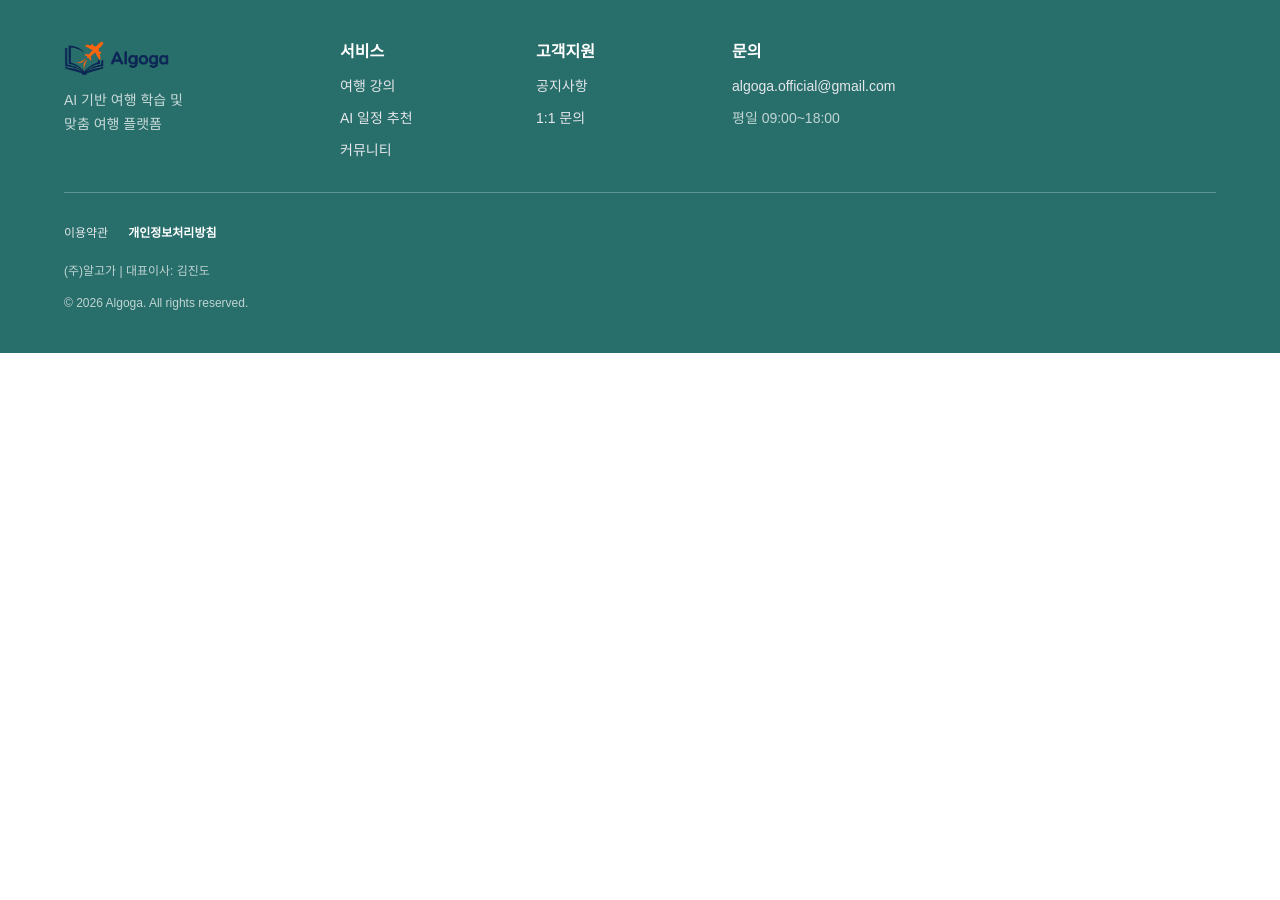
Footer › 이용약관과 개인정보처리방침을 모달로 보여준다
The image size is (1280, 900).
Click the button "이용약관": (86, 233) [64,225,108,241]
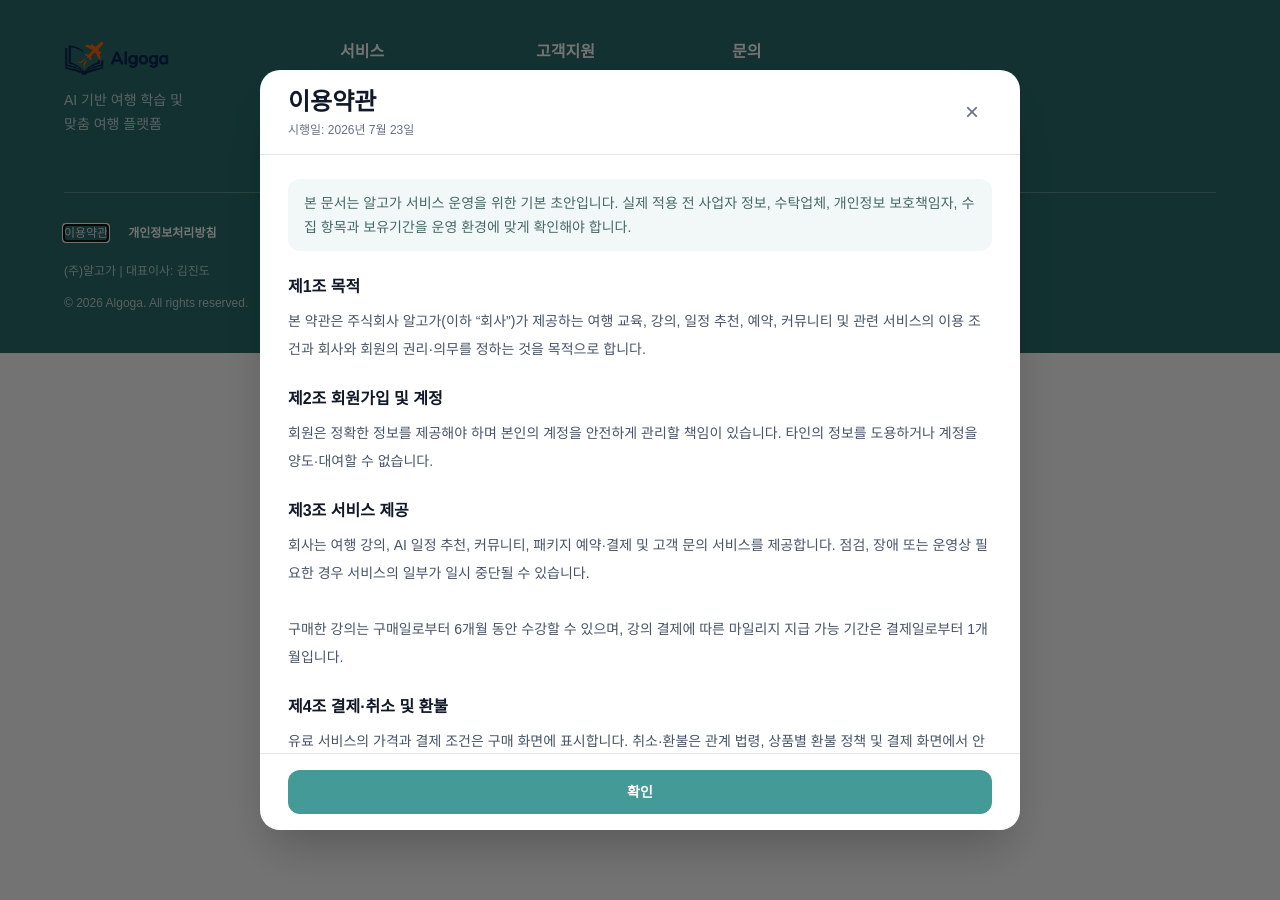
Expected: the dialog "이용약관" is shown
Expected: the heading "제1조 목적" is shown, [288,278,360,295]
Click the button named "이용약관 닫기": (972, 112) [952,92,992,132]
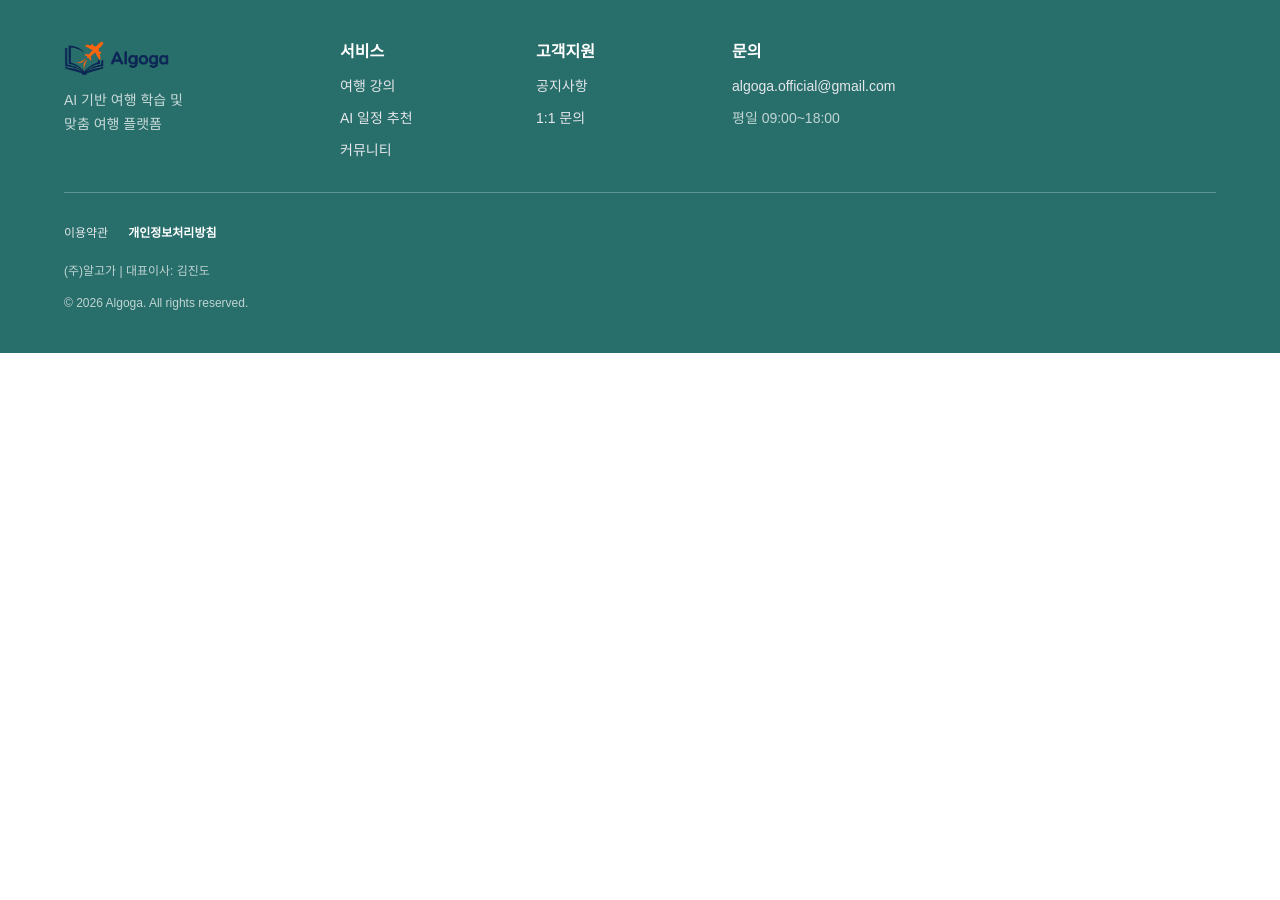
Expected: the dialog is gone
Click the button "개인정보처리방침": (172, 233) [128,225,216,241]
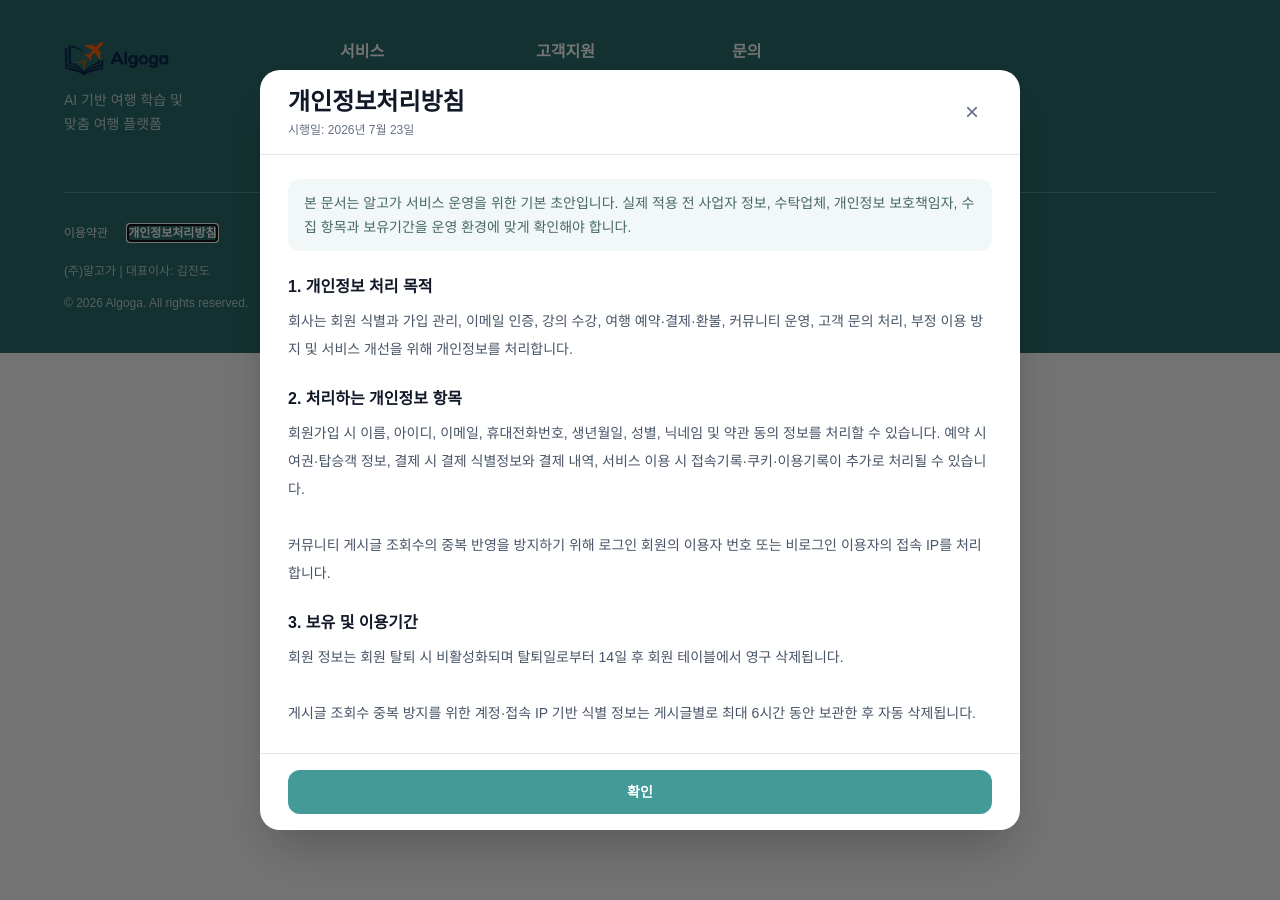
Expected: the dialog "개인정보처리방침" is shown
Expected: the heading "1. 개인정보 처리 목적" is shown, [288,278,432,295]
Expected: the text "비로그인 이용자의 접속 IP를 처리합니다" is shown, [288,425,987,581]
